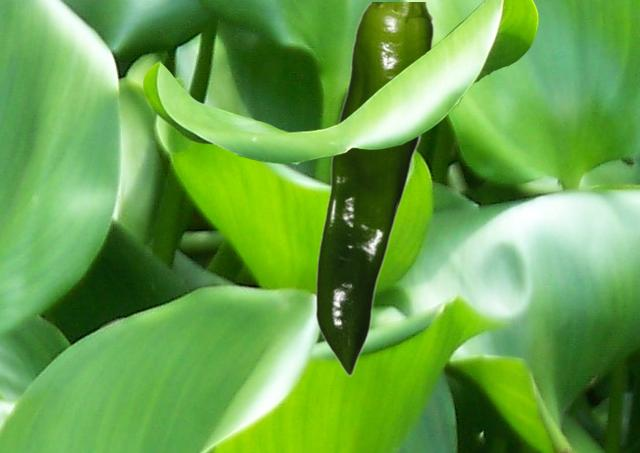green_chili: (314, 2, 434, 375)
